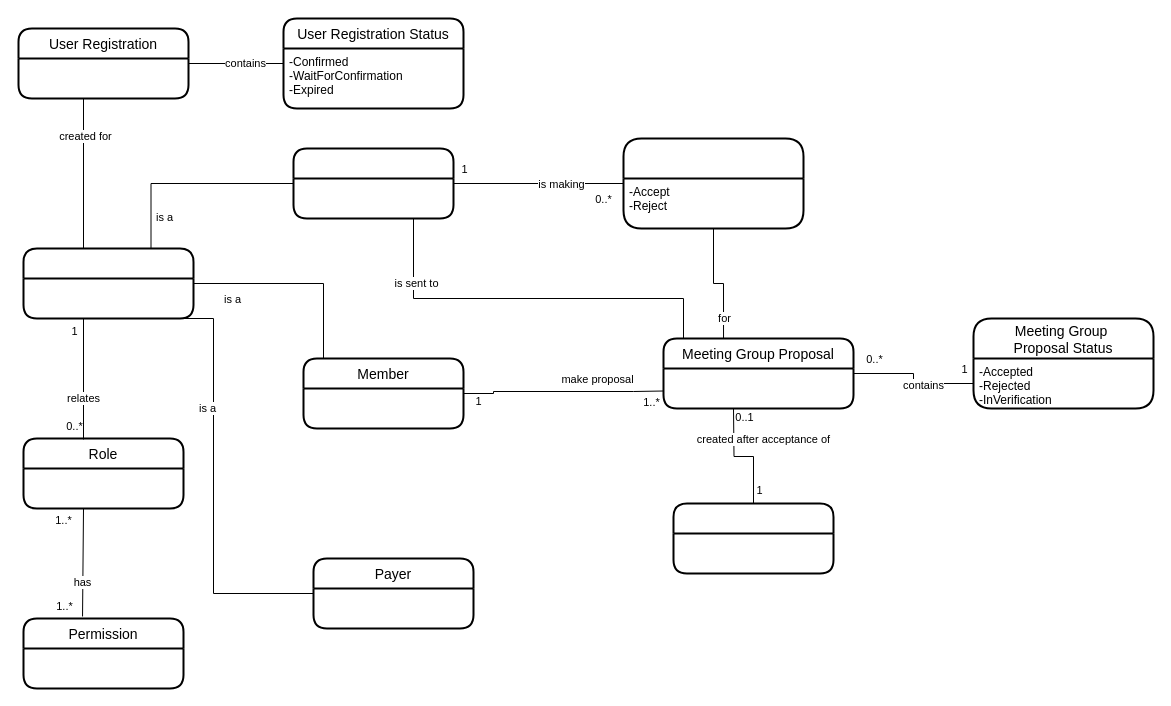
Image size: 1171x706. Some labels were removed from this diagram. The box of each missing label's shape, as (x1, y1, x2, y2) in pixels:
Administrator: (292, 147, 454, 219)
Meeting Group: (672, 502, 834, 574)
Meeting Group Proposal Decision: (622, 137, 804, 229)
User: (22, 247, 194, 319)
